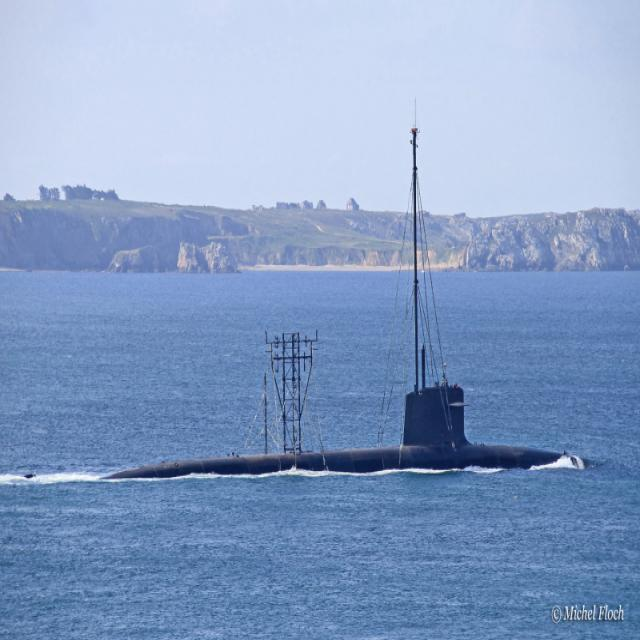submarine: (98, 381, 616, 482)
